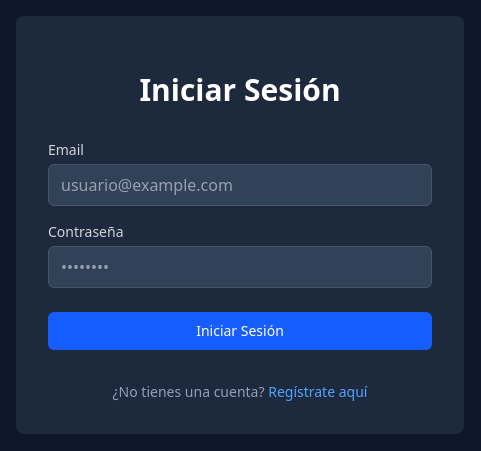
Test case: LoginPage › debe mostrar estado de carga mientras se procesa el login
Step 1. Type "test@example.com" into the field labelled "Email" → (240, 185), box [48,164,432,206]
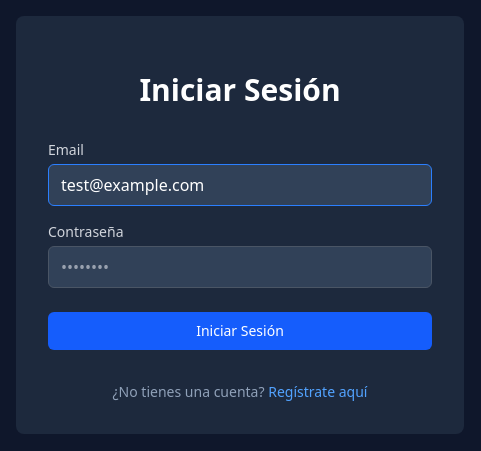
Step 2. Type "password123" into the password field labelled "Contraseña" → (240, 267), box [48,246,432,288]
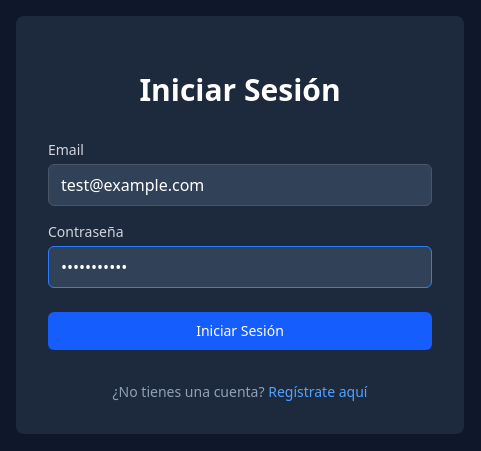
Step 3. Click the button "Iniciar Sesión" → (240, 331), box [48,312,432,350]
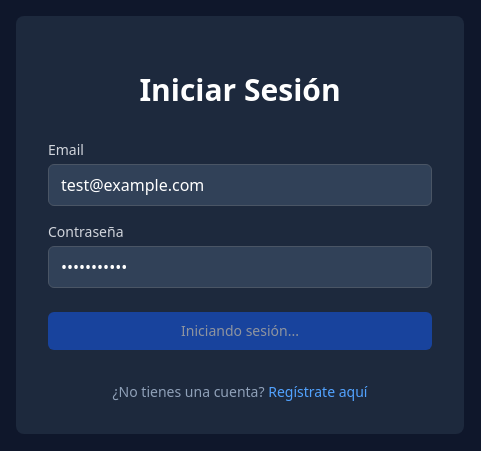
Expected: the button "Iniciando sesión..." is disabled, [48,312,432,350]
